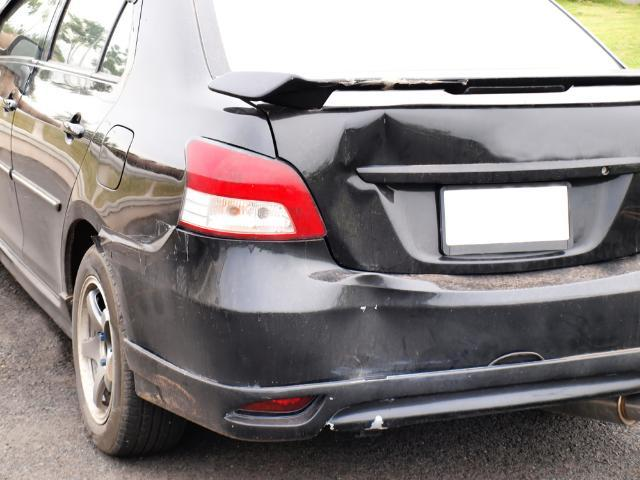dent: (309, 114, 495, 267), (327, 272, 446, 376)
